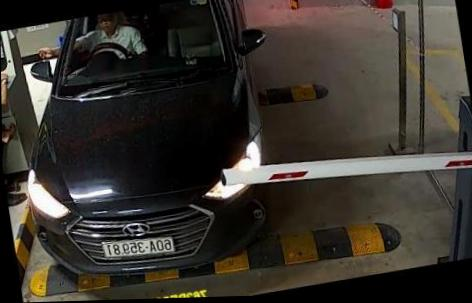License_Plate: (100, 228, 181, 269)
